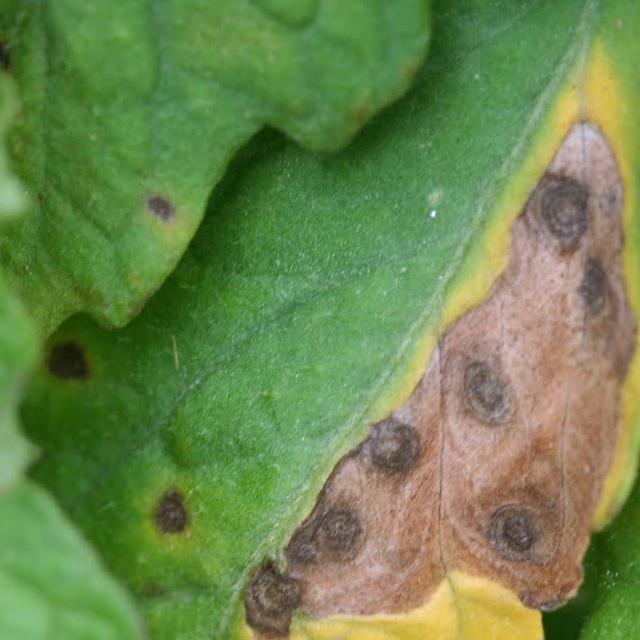Tomato leaf late blight: (0, 6, 640, 640), (0, 19, 180, 640)
